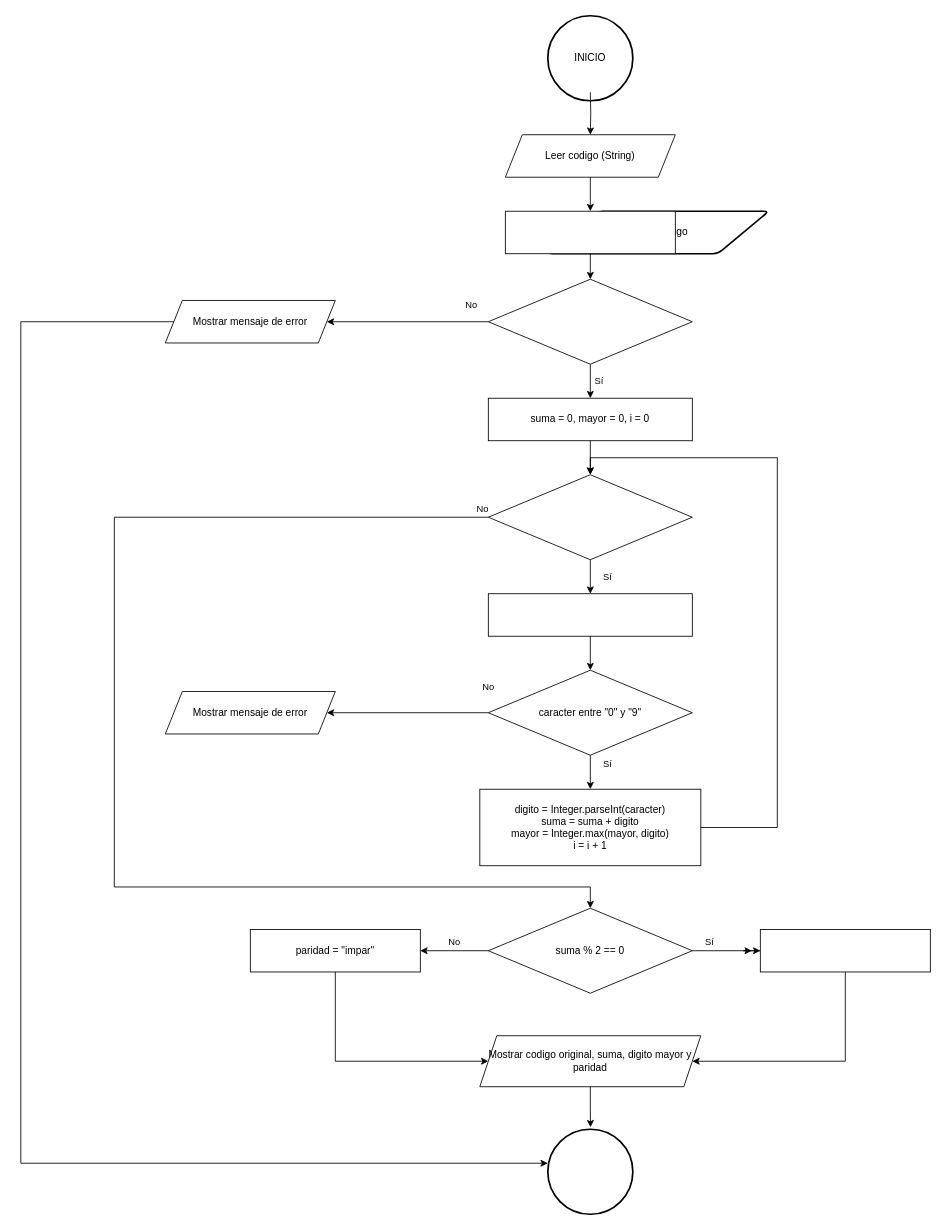
Some shapes in this 945 by 1229 pixel diagram are drawn without their labels. The box of each missing label's shape, as (x1, y1, x2, y2) in pixels:
caracter = codigo.substring(i, i + 1): (487, 593, 692, 636)
codigo = cdoigo.trim(): (504, 210, 675, 254)
codigo.length() == 6: (487, 278, 692, 364)
Fin: (547, 1128, 633, 1215)
i < 6: (487, 474, 692, 560)
paridad = "par": (759, 929, 930, 972)
